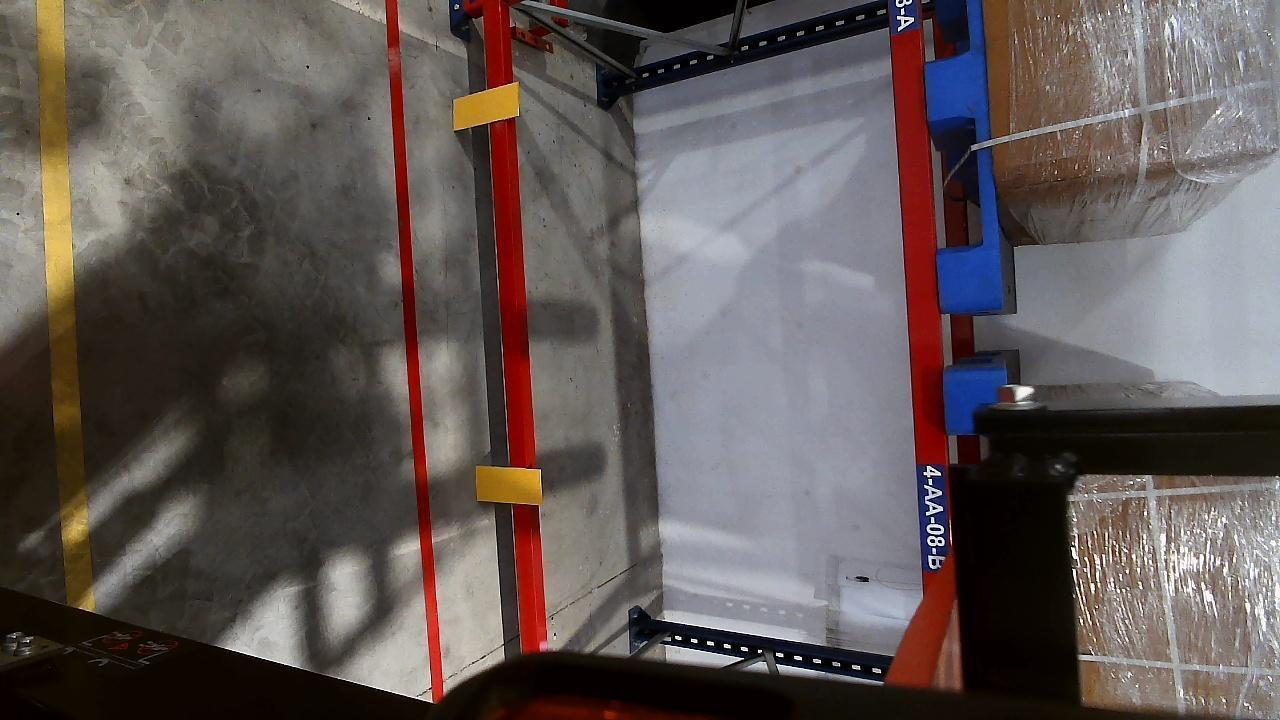red_line: (386, 6, 442, 687)
yellow_line: (35, 0, 91, 614)
